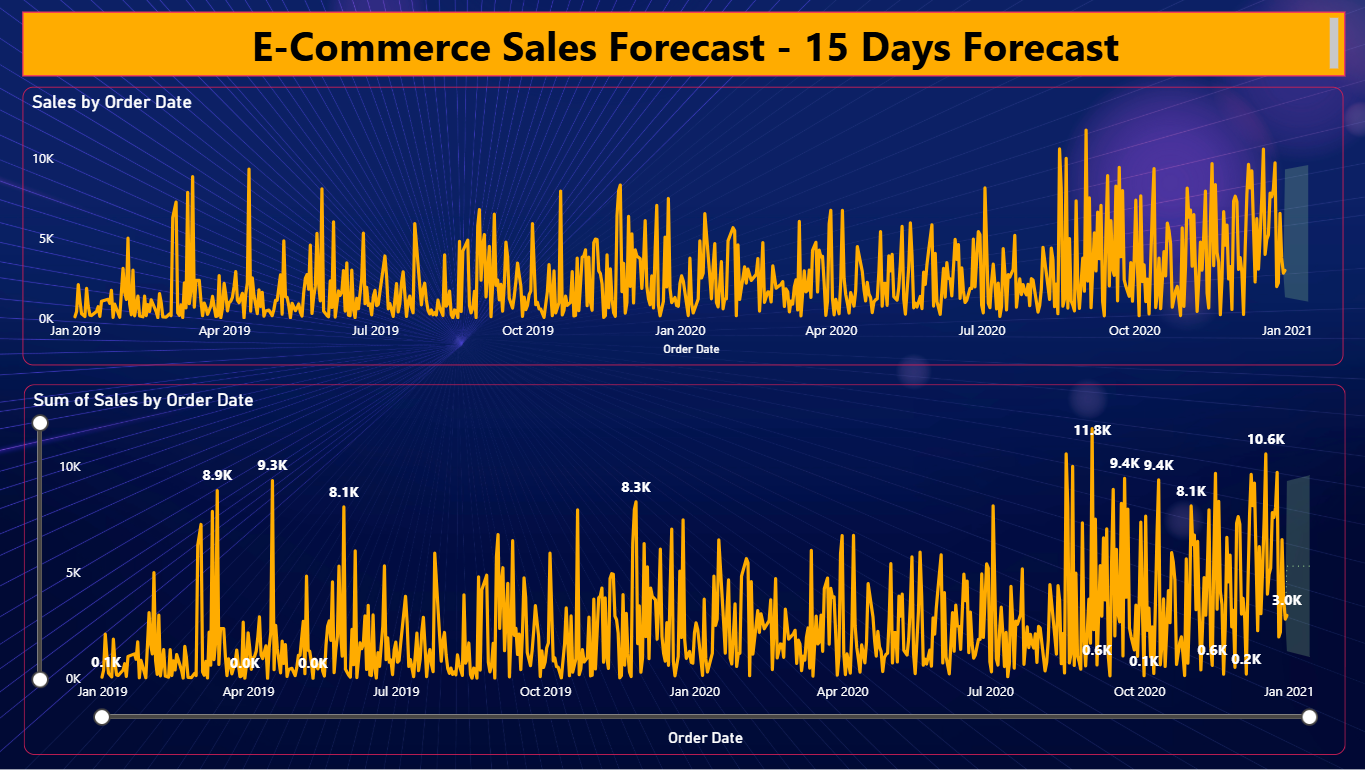

This screenshot's page, from the dashboard's own definition file:
{"tool":"powerbi","page":{"name":"Page 3","canvas":[1280,720],"ordinal":2},"visuals":[{"type":"lineChart","title":" Sales by Order Date","fields":{"Category":["SuperStore_Sales_Dataset.Order Date"],"Y":["Sum(SuperStore_Sales_Dataset.Sales)"]},"box":[26.2,82.2,1229.2,259],"z":0},{"type":"lineChart","fields":{"Category":["SuperStore_Sales_Dataset.Order Date"],"Y":["Sum(SuperStore_Sales_Dataset.Sales)"]},"box":[26.5,359.5,1229.4,345],"z":1000},{"type":"textbox","box":[25.3,13.3,1230.6,60.3],"z":2000}]}

Visuals, with their boxes in screenshot pixels (x1, y1, x2, y2), scaled from the page's 1280x720 canvas onto the 1365x770 screenshot:
" Sales by Order Date" lineChart: Rect(28, 88, 1339, 365)
lineChart - SuperStore_Sales_Dataset.Order Date x Sum(SuperStore_Sales_Dataset.Sales): Rect(28, 384, 1339, 753)
textbox: Rect(27, 14, 1339, 79)
